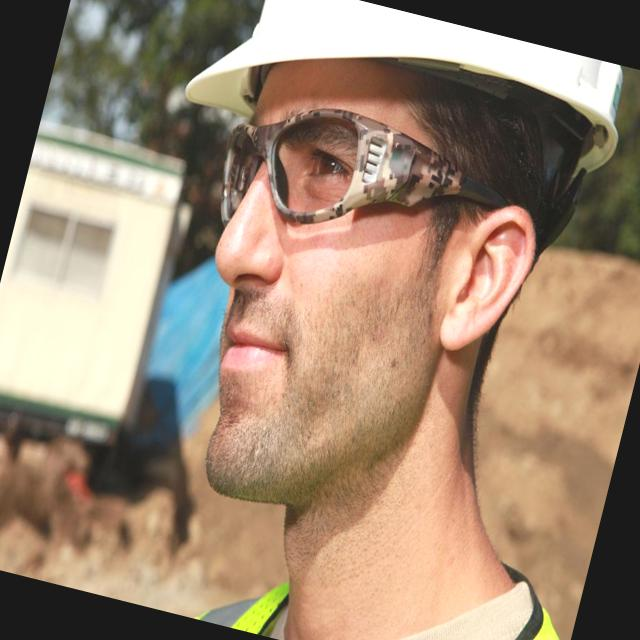goggles: (206, 82, 524, 289)
helmet: (175, 0, 640, 215)
